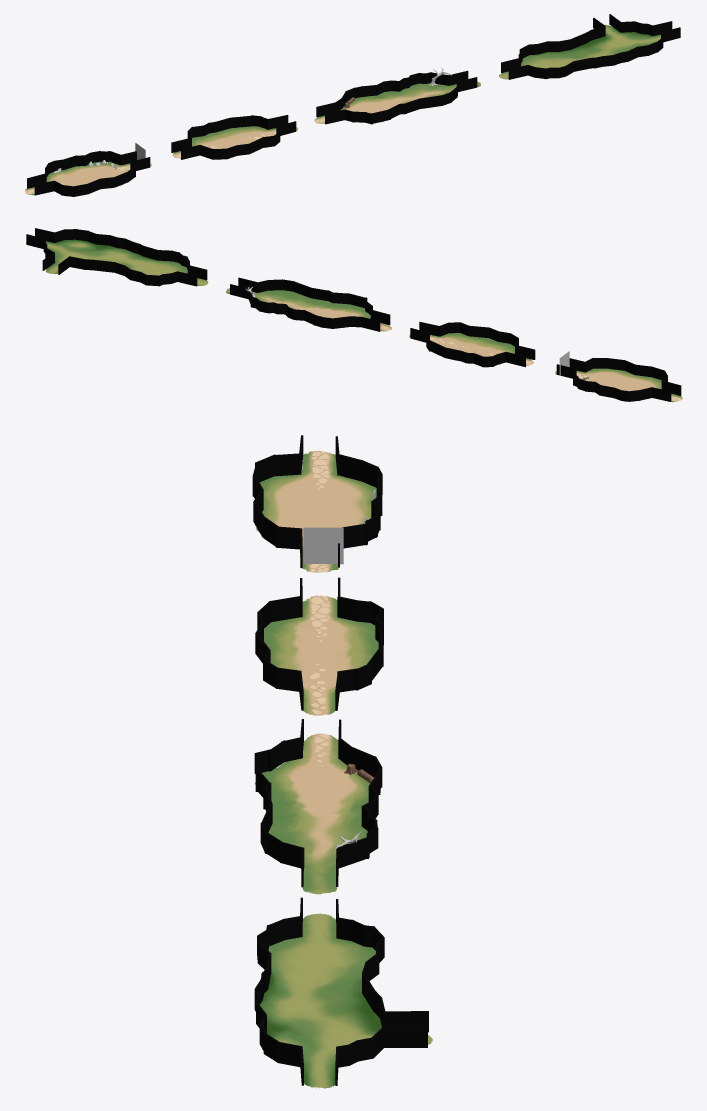
File: map 1~4 all.fbx
The picture shows the model from 3 angles, top to bottom: view 1: azimuth 30°, elevation 25°; view 2: azimuth 150°, elevation 25°; view 3: azimuth 270°, elevation 25°; orthographic projection. The views are drawn at different scales.
Parts seen in each view (by area): view 1: map4 cage, map3 cage, map2 cage, map1 cage, map 4, map 3, map 1, map 2; view 2: map4 cage, map3 cage, map2 cage, map1 cage, map 4, map 3, map 1, map 2; view 3: map 4, map 3, map4 cage, map 2, map 1, map3 cage, map1 cage, map2 cage, Plane001.
Boxes of the visible parts, left/top/right/bottom form: map4 cage: left=501, top=14, right=680, bottom=79; map3 cage: left=316, top=70, right=477, bottom=124; map2 cage: left=171, top=115, right=296, bottom=159; map1 cage: left=27, top=151, right=150, bottom=196; map 4: left=499, top=24, right=660, bottom=79; map 3: left=314, top=81, right=480, bottom=123; map 1: left=25, top=161, right=151, bottom=196; map 2: left=172, top=126, right=298, bottom=158; map4 cage: left=26, top=228, right=207, bottom=286; map3 cage: left=230, top=277, right=390, bottom=331; map2 cage: left=410, top=322, right=535, bottom=367; map1 cage: left=556, top=358, right=681, bottom=401; map 4: left=46, top=239, right=208, bottom=285; map 3: left=226, top=288, right=391, bottom=331; map 1: left=555, top=368, right=682, bottom=402; map 2: left=409, top=333, right=533, bottom=365; map 4: left=260, top=913, right=432, bottom=1088; map 3: left=255, top=733, right=370, bottom=894; map4 cage: left=254, top=897, right=428, bottom=1085; map 2: left=262, top=595, right=378, bottom=715; map 1: left=255, top=450, right=376, bottom=572; map3 cage: left=254, top=719, right=382, bottom=887; map1 cage: left=252, top=435, right=382, bottom=567; map2 cage: left=255, top=577, right=383, bottom=710; Plane001: left=303, top=527, right=343, bottom=564.
Size of the model in its own units: 6860 by 194 by 900.
